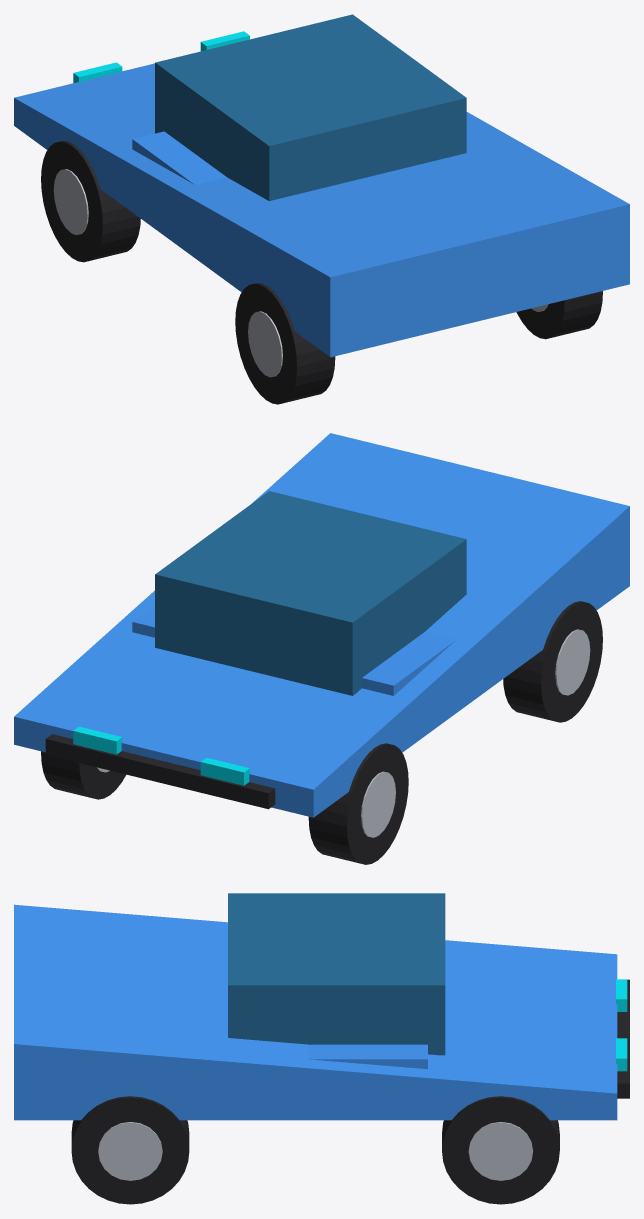
Rendered from traffic_sedan.glb.
3 views of the same model, one above another, from view 1: azimuth 30°, elevation 25°; view 2: azimuth 150°, elevation 25°; view 3: azimuth 270°, elevation 25° (orthographic). The views are drawn at different scales.
Parts seen in each view (by area): view 1: sedan_body, sedan_cabin, wheel_-1.05_1.32, wheel_-1.05_-1.32, wheel_1.05_1.32, sedan_mid, rim_-1.05_-1.32, rim_-1.05_1.32, sedan_head_l; view 2: sedan_body, sedan_cabin, wheel_-1.05_-1.32, wheel_-1.05_1.32, sedan_front_lip, sedan_mid, wheel_1.05_-1.32, rim_-1.05_-1.32, rim_-1.05_1.32, sedan_head_l, sedan_head_r; view 3: sedan_body, sedan_cabin, wheel_1.05_1.32, wheel_1.05_-1.32, rim_1.05_-1.32, rim_1.05_1.32, sedan_mid, sedan_front_lip.
Part boxes in pixels (x1,y1,x2,y2): sedan_body: (14,63,629,357); sedan_cabin: (155,14,466,201); wheel_-1.05_1.32: (235,283,335,404); wheel_-1.05_-1.32: (41,140,140,262); wheel_1.05_1.32: (516,291,602,339); sedan_mid: (132,131,226,184); rim_-1.05_-1.32: (53,169,88,234); rim_-1.05_1.32: (248,311,282,377); sedan_head_l: (73,62,122,83); sedan_body: (14,433,629,817); sedan_cabin: (155,491,466,695); wheel_-1.05_-1.32: (308,743,408,864); wheel_-1.05_1.32: (503,601,602,722); sedan_front_lip: (45,734,275,809); sedan_mid: (132,606,456,695); wheel_1.05_-1.32: (41,751,125,799); rim_-1.05_-1.32: (361,771,395,837); rim_-1.05_1.32: (555,629,590,695); sedan_head_l: (200,757,249,785); sedan_head_r: (73,726,122,754); sedan_body: (14,904,617,1120); sedan_cabin: (228,893,445,1055); wheel_1.05_1.32: (71,1096,189,1204); wheel_1.05_-1.32: (442,1096,559,1204); rim_1.05_-1.32: (468,1122,533,1180); rim_1.05_1.32: (98,1122,162,1180); sedan_mid: (308,1044,427,1069); sedan_front_lip: (617,979,629,1098).
Bounding box in the file's own units: 2.42 × 1.52 × 4.39.
